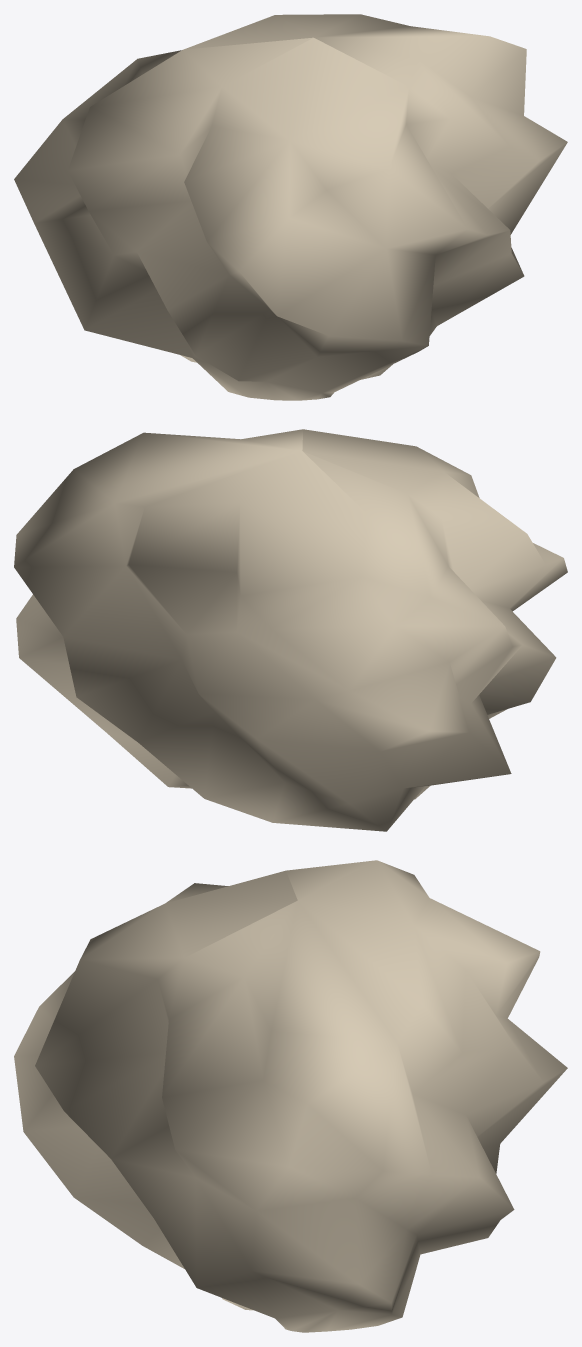
Rendered from rock1-lod2.glb.
The picture shows the model from 3 angles, top to bottom: view 1: azimuth 30°, elevation 25°; view 2: azimuth 150°, elevation 25°; view 3: azimuth 270°, elevation 25°; orthographic projection. The views are drawn at different scales.
Parts seen in each view (by area): view 1: rock1_rock; view 2: rock1_rock; view 3: rock1_rock.
Boxes of the visible parts, box(x1,y1,x2,y2) form: rock1_rock: box(14, 14, 567, 400); rock1_rock: box(14, 429, 567, 831); rock1_rock: box(14, 860, 567, 1332).
Bounding box in the file's own units: 2.23 × 1.47 × 1.93.
